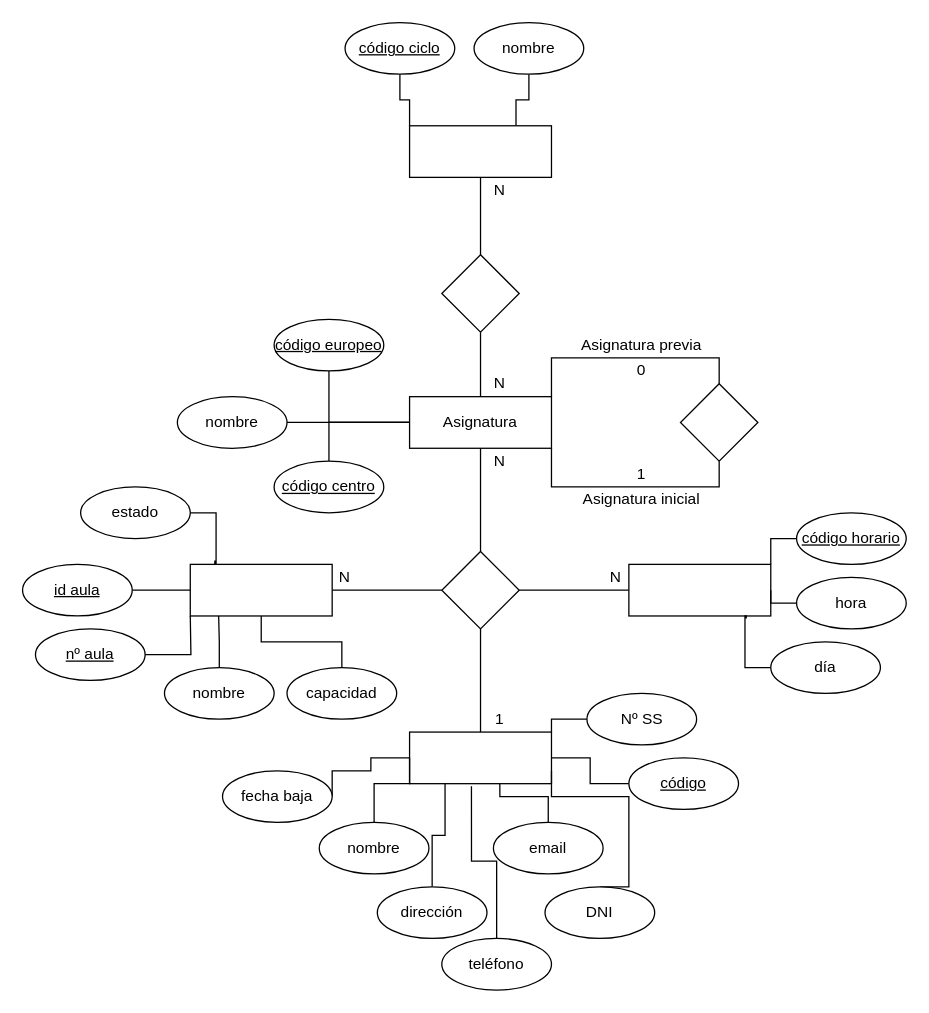
The diagram is 929 pixels wide and 1013 high, and some of its shapes have lost their labels. Each missing label, with the centre of its shape:
"Aula" belongs at (260,589).
"Ciclo" belongs at (479,150).
"define" belongs at (480,292).
"Horario" belongs at (699,589).
"Ocupar" belongs at (480,589).
"Profesor" belongs at (479,757).
"requiere" belongs at (718,421).
